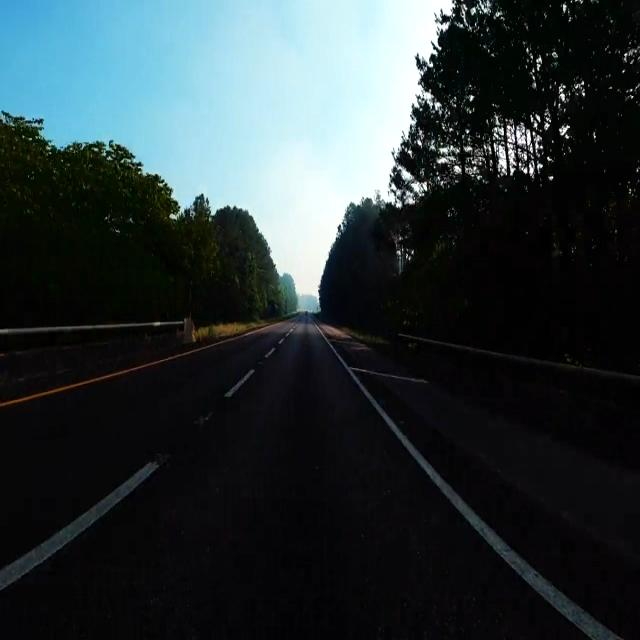lane: (321, 333, 618, 640), (0, 460, 161, 590), (0, 338, 236, 408)
road: (0, 317, 583, 637), (357, 373, 640, 636)
